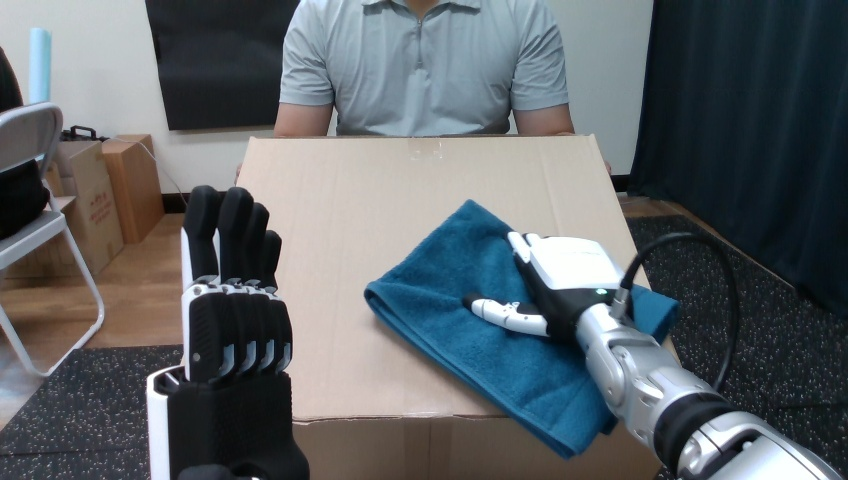left robot hand: (146, 186, 308, 479), (715, 239, 847, 477), (644, 242, 727, 382)
